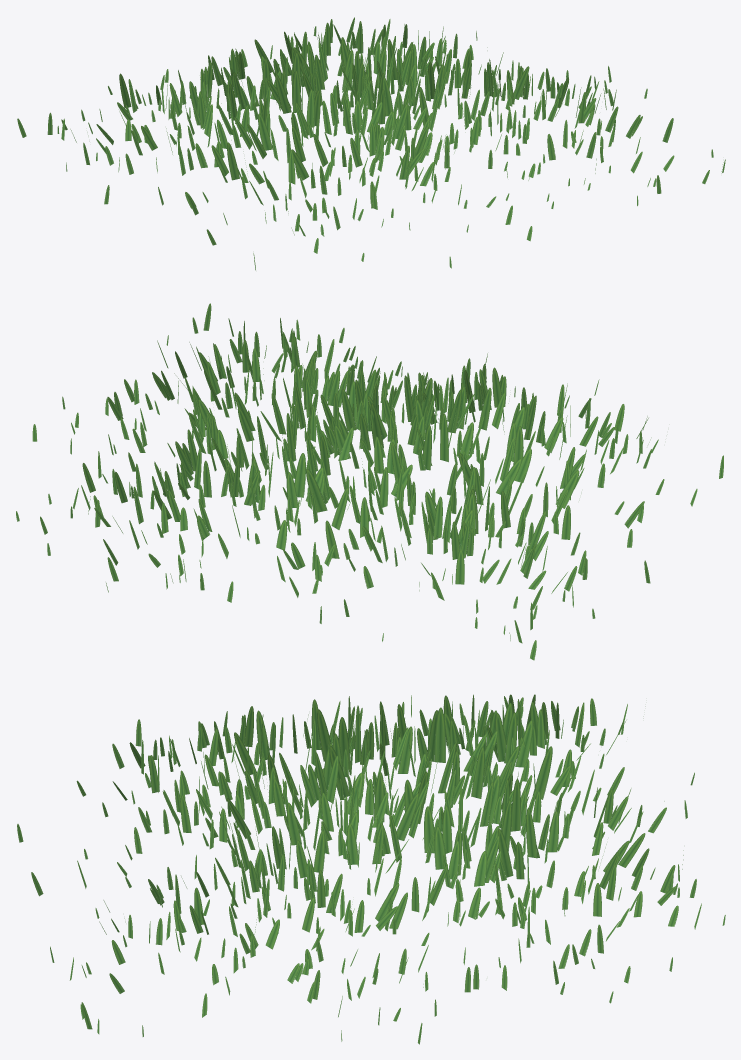
Rendered from grassBlades2.fbx.
3 renders of one model, top to bottom at view 1: azimuth 30°, elevation 25°; view 2: azimuth 150°, elevation 25°; view 3: azimuth 270°, elevation 25°, orthographic. The views are drawn at different scales.
Visible parts, largest first — view 1: grassPlane.646; view 2: grassPlane.646; view 3: grassPlane.646.
Boxes of the visible parts, x1,y1,x2,y2 form: grassPlane.646: (17, 17, 725, 270); grassPlane.646: (16, 303, 723, 660); grassPlane.646: (17, 694, 725, 1044).
Bounding box in the file's own units: 194 × 31.72 × 177.
